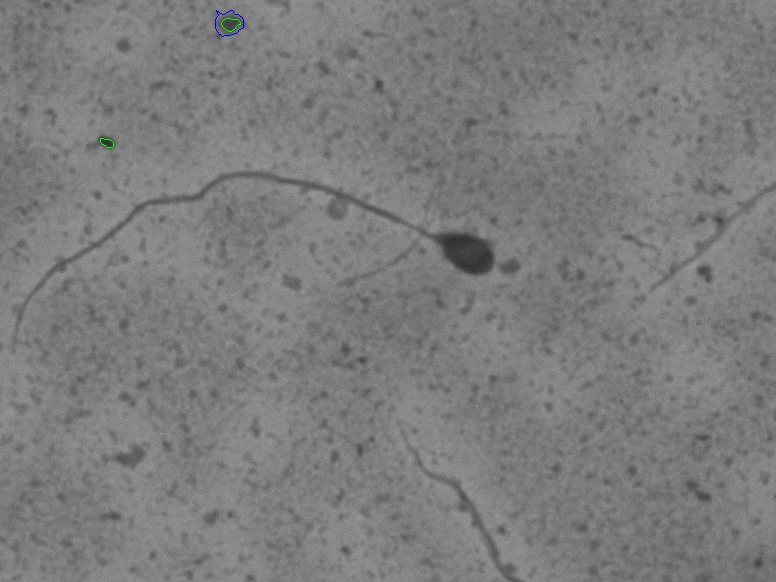Normal: (22, 148, 500, 393)
